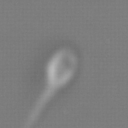normal: (16, 87, 58, 128)
